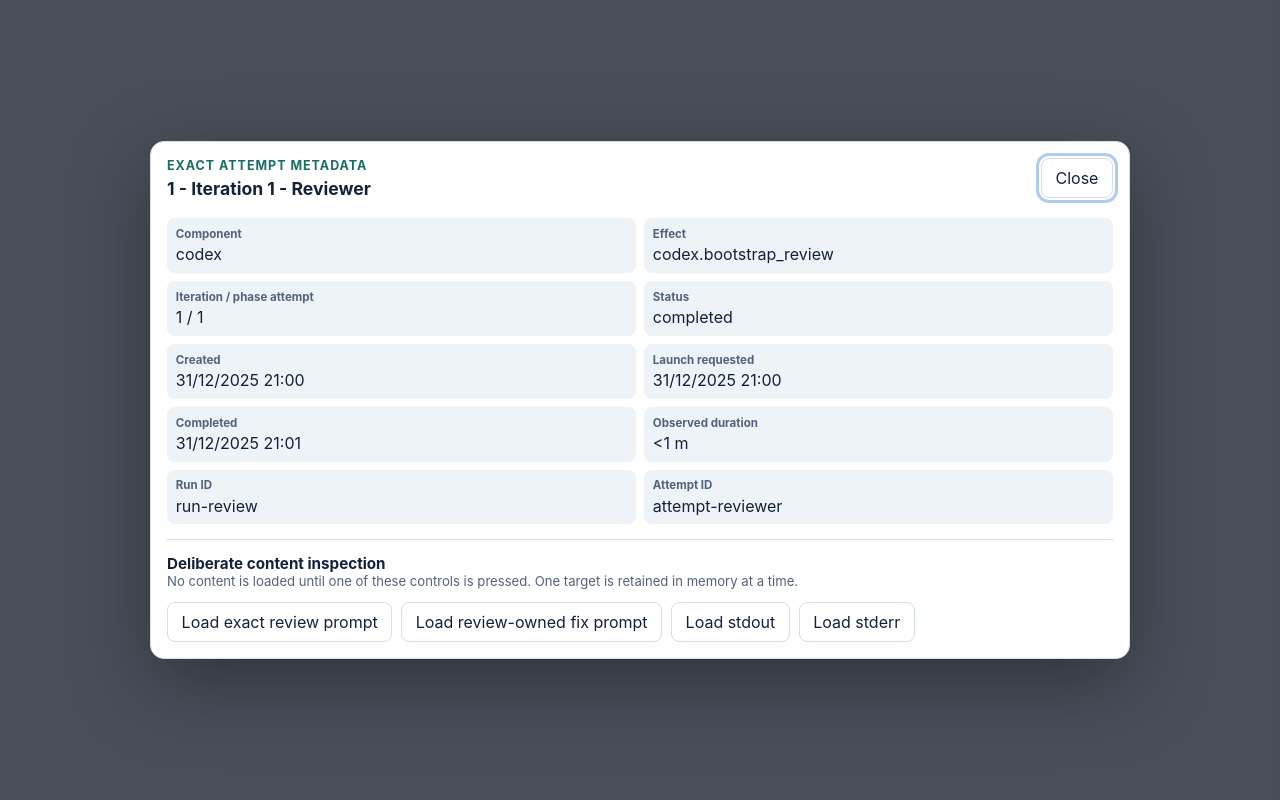
Test: C265-1 attempt metadata and deliberate ownership › opens on metadata without content and targets the exact reviewer attempt
The width and height of the screenshot is (1280, 800).
Check: the dialog shows "attempt-reviewer", box [653, 496, 782, 516]
Check: the dialog shows "codex.bootstrap_review", box [653, 244, 834, 264]
Click the button "Load exact review prompt".
click(280, 622)  # box [167, 602, 392, 642]
(page scrolled)
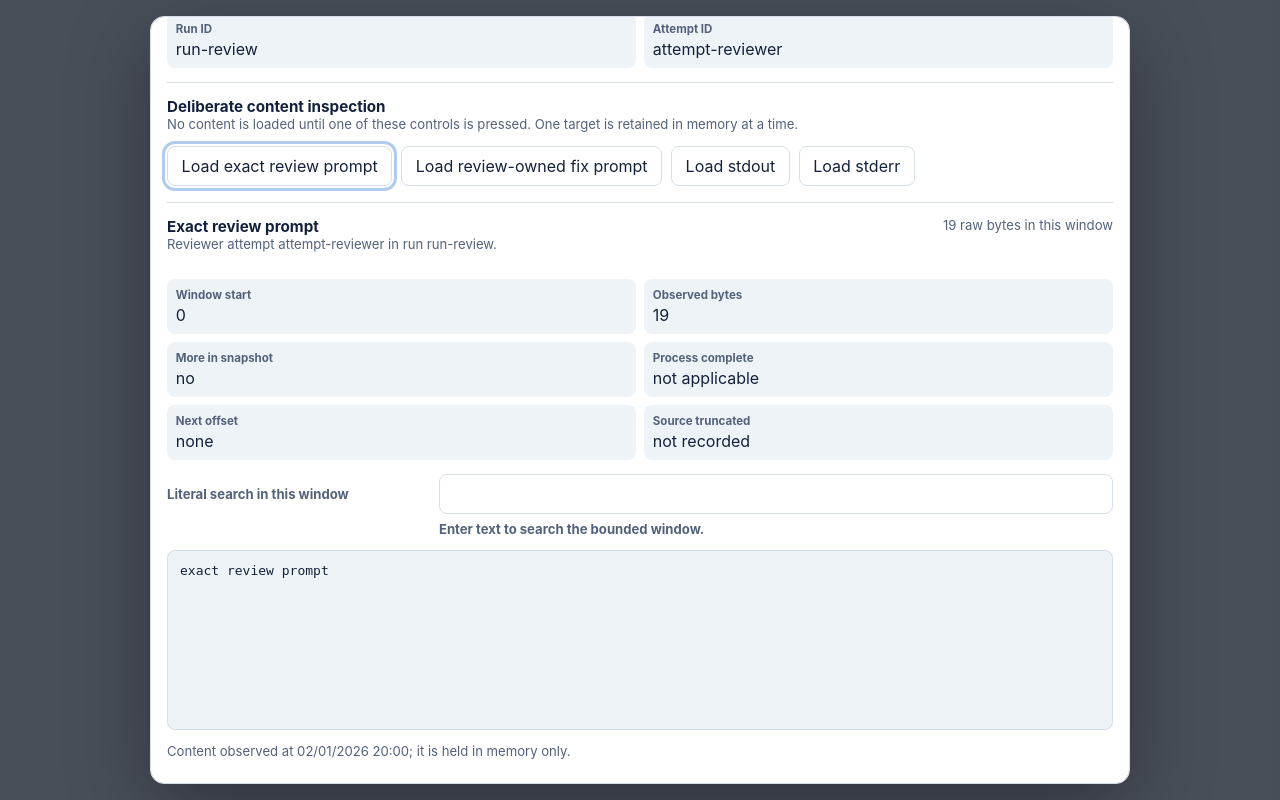
Check: the text "exact review prompt" is shown, box [167, 550, 1113, 730]
